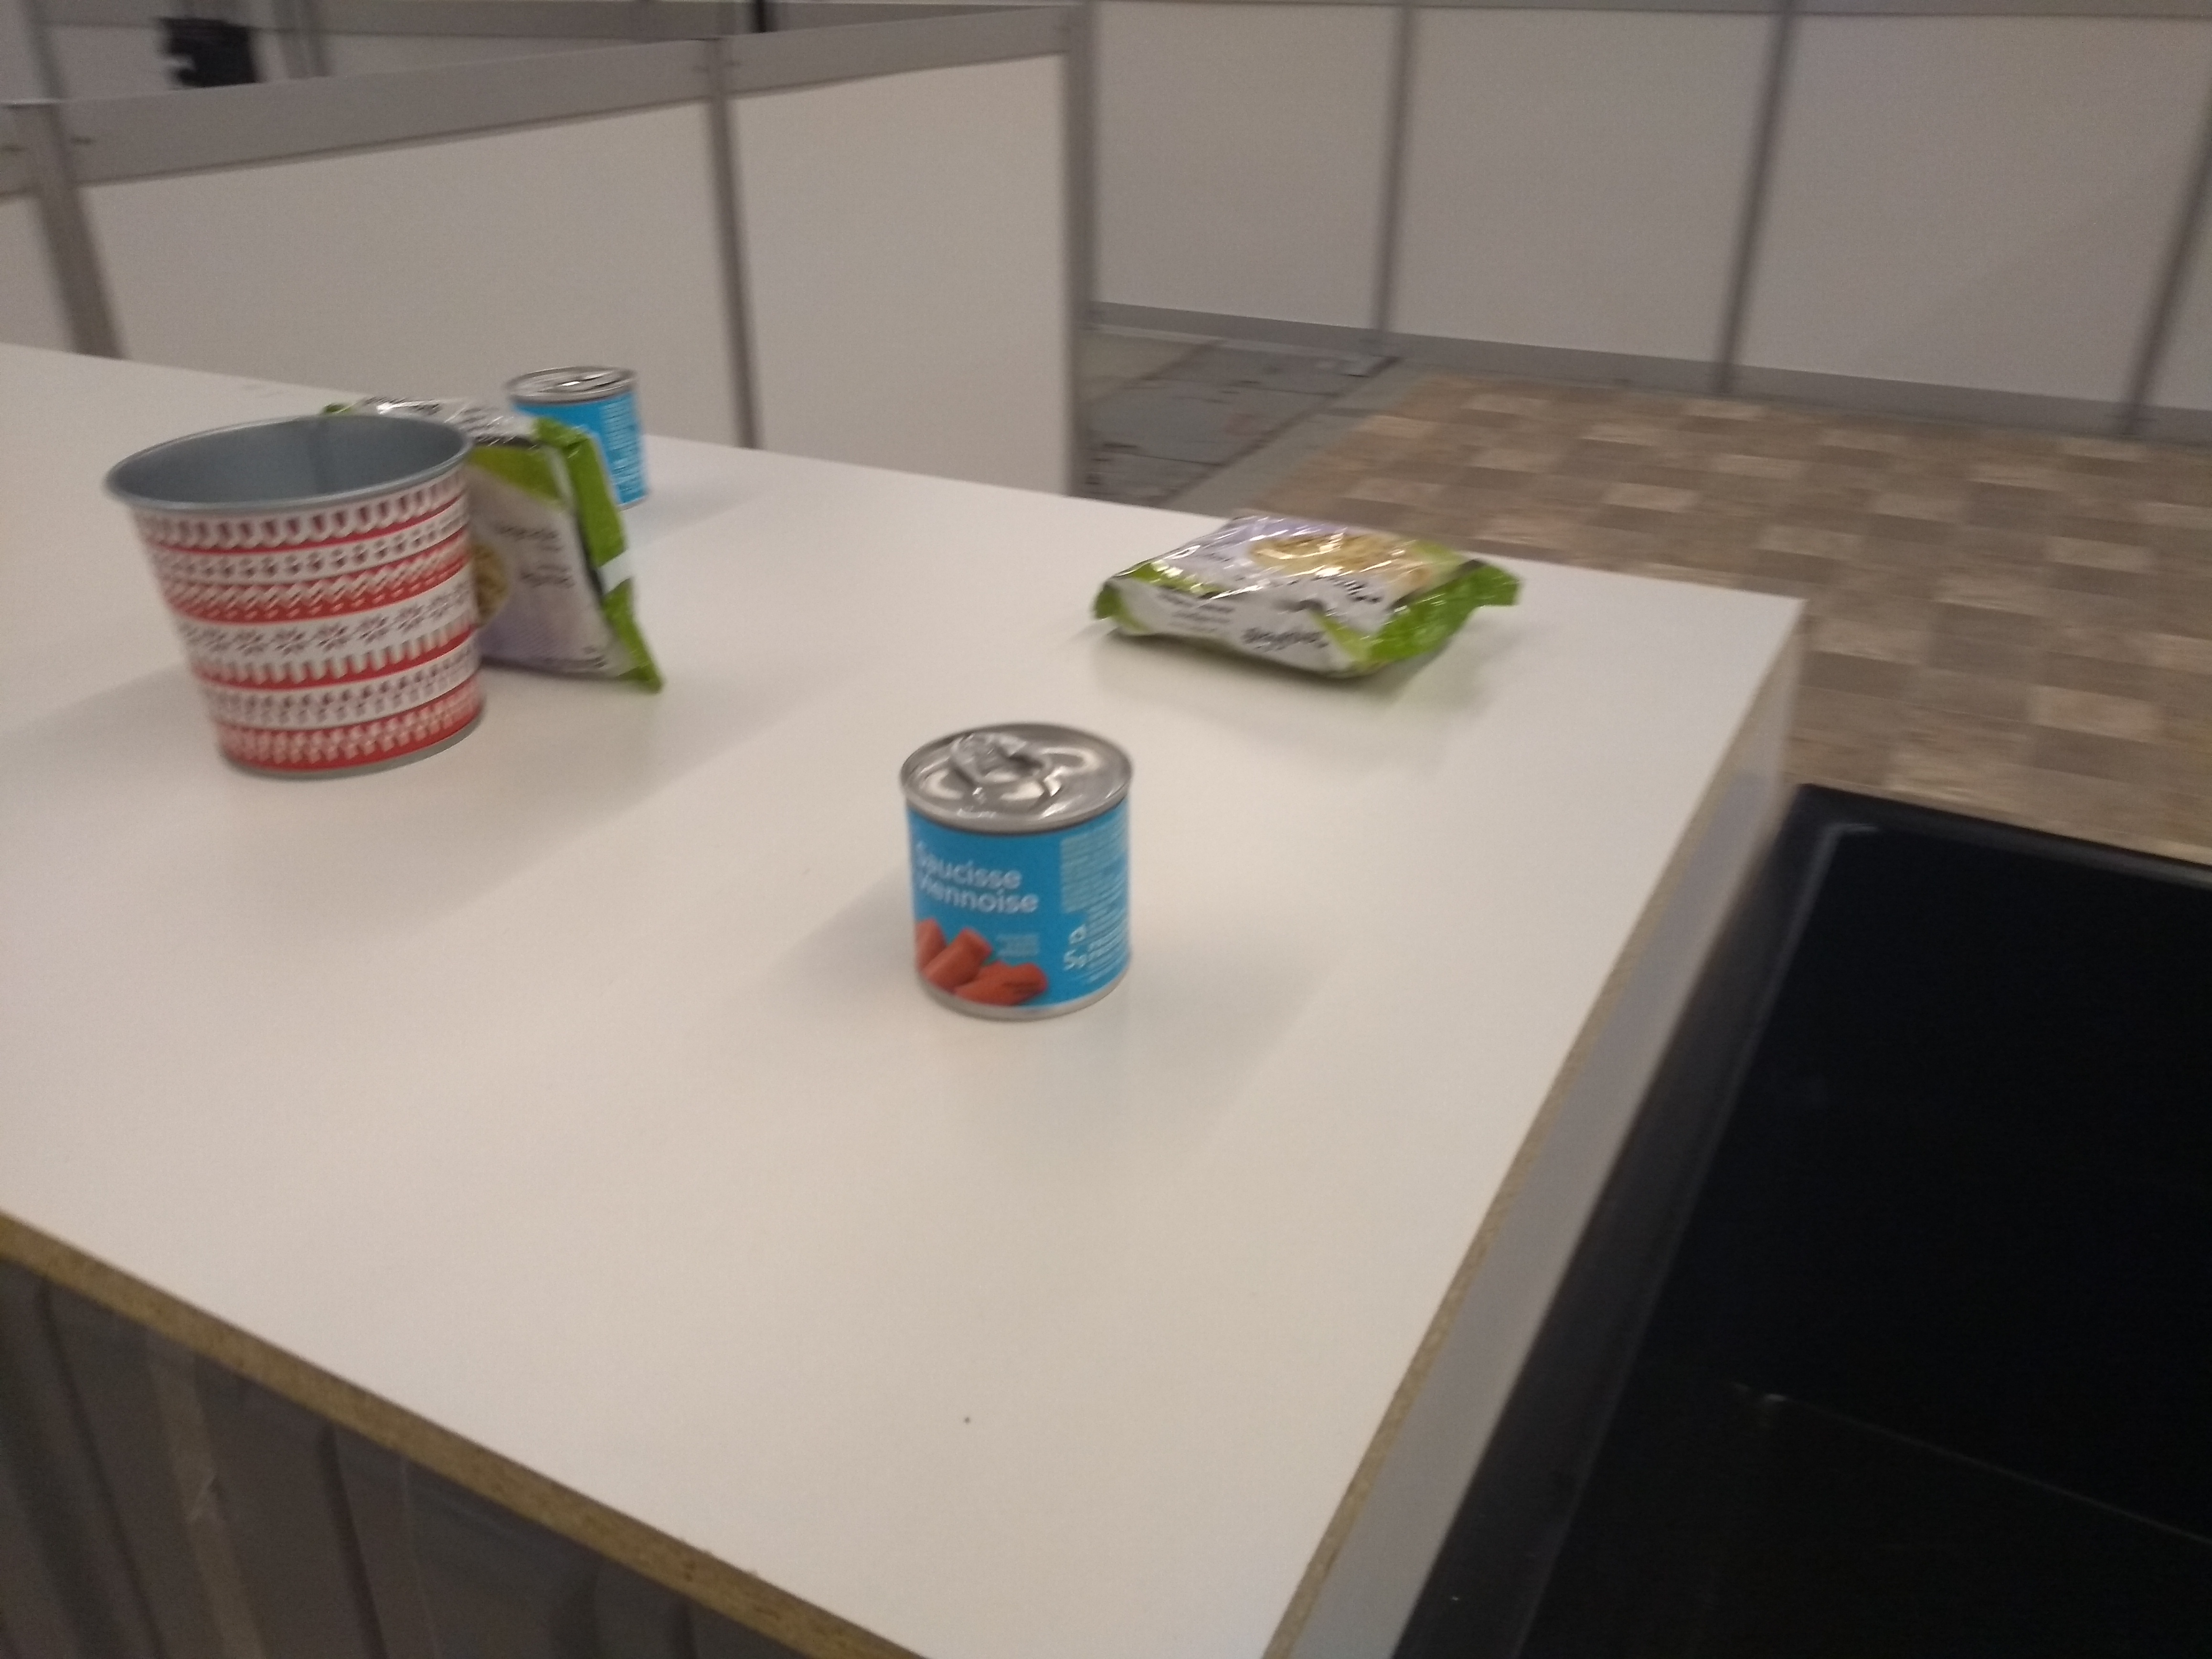noodles: (1083, 491, 1541, 695)
sausages: (895, 716, 1148, 1039)
